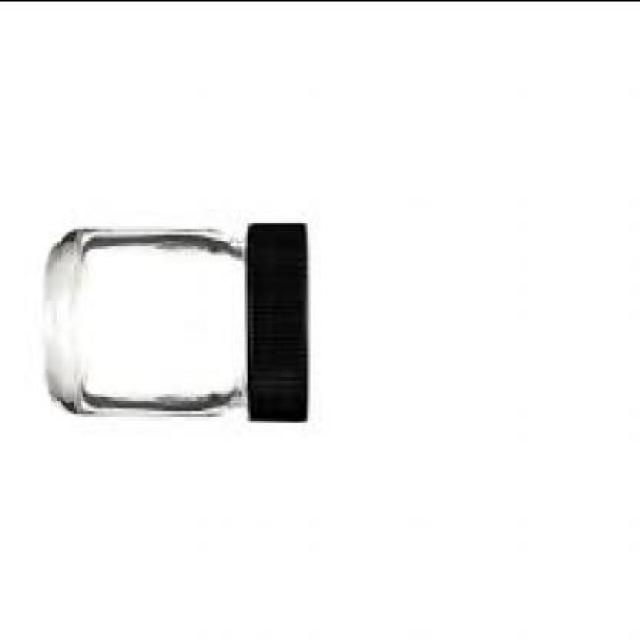GLASS: (49, 228, 253, 415)
PLASTIC: (245, 227, 312, 424)
